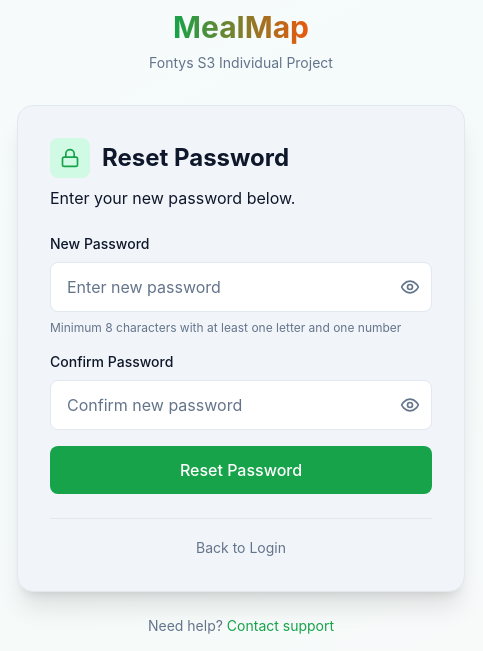
ResetPasswordPage › submits and shows success state
In the password field labelled "New Password": [241, 286] box left=50, top=262, right=432, bottom=312, type "Password123"
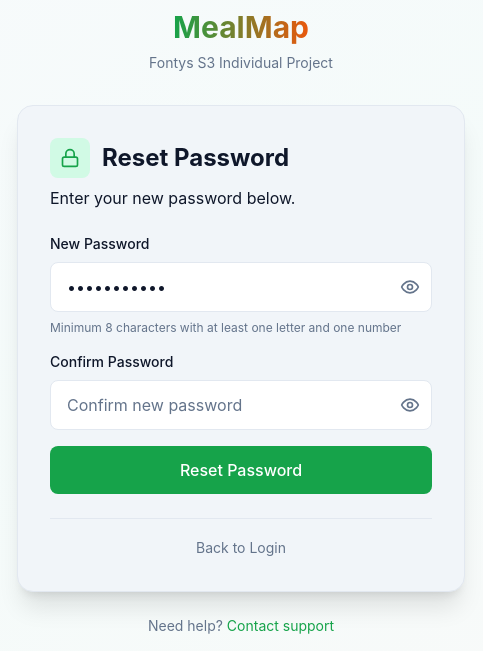
In the password field labelled "Confirm Password": [241, 404] box left=50, top=380, right=432, bottom=430, type "Password123"
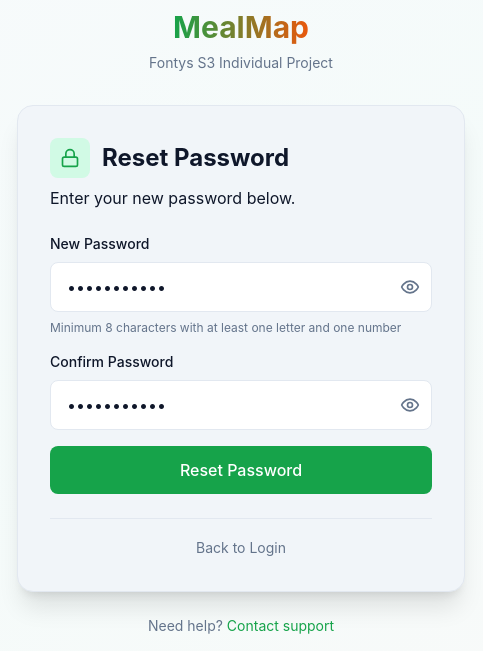
Click the button "Reset Password": [241, 470] box left=50, top=446, right=432, bottom=494
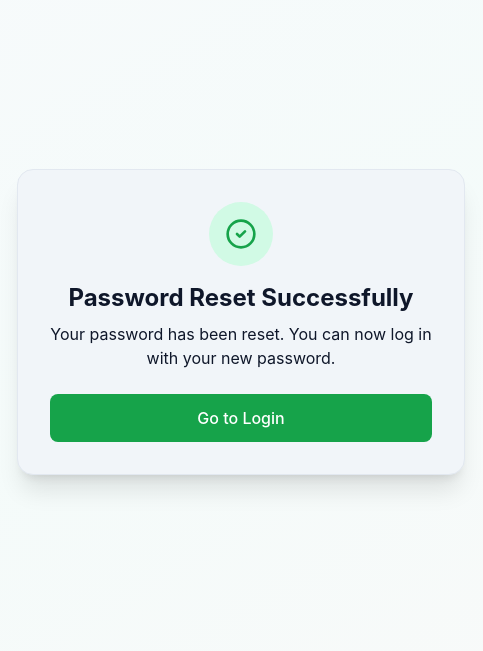
Check: the heading "Password Reset Successfully" is shown, box left=50, top=282, right=432, bottom=314
